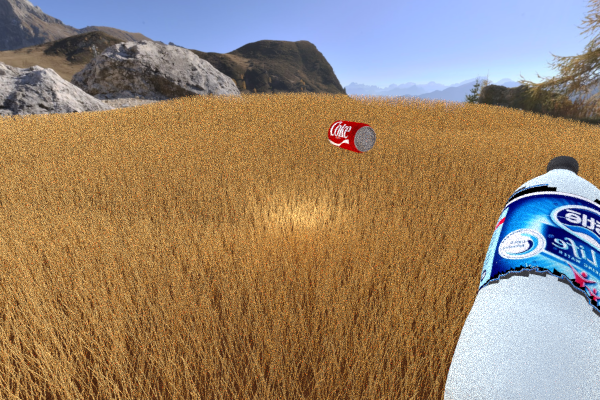bottle: (444, 155, 600, 400)
can: (327, 120, 375, 153)
